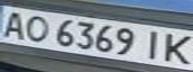3: (72, 19, 96, 52)
6: (51, 16, 78, 48), (93, 21, 118, 54)
9: (112, 25, 139, 57)
A: (0, 8, 30, 39)
I: (139, 27, 169, 61)
K: (157, 30, 193, 66)
O: (21, 12, 54, 43)
